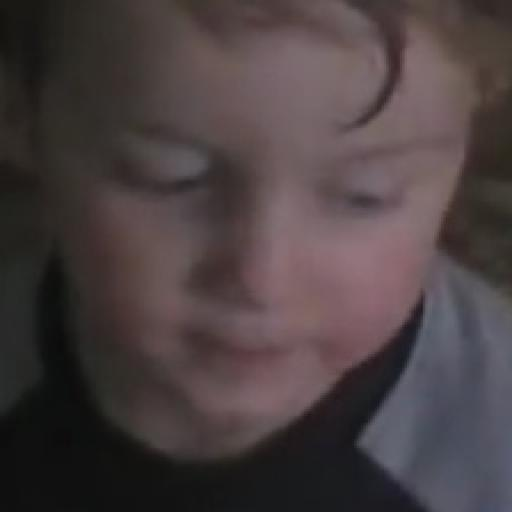Autism: (31, 0, 504, 469)
